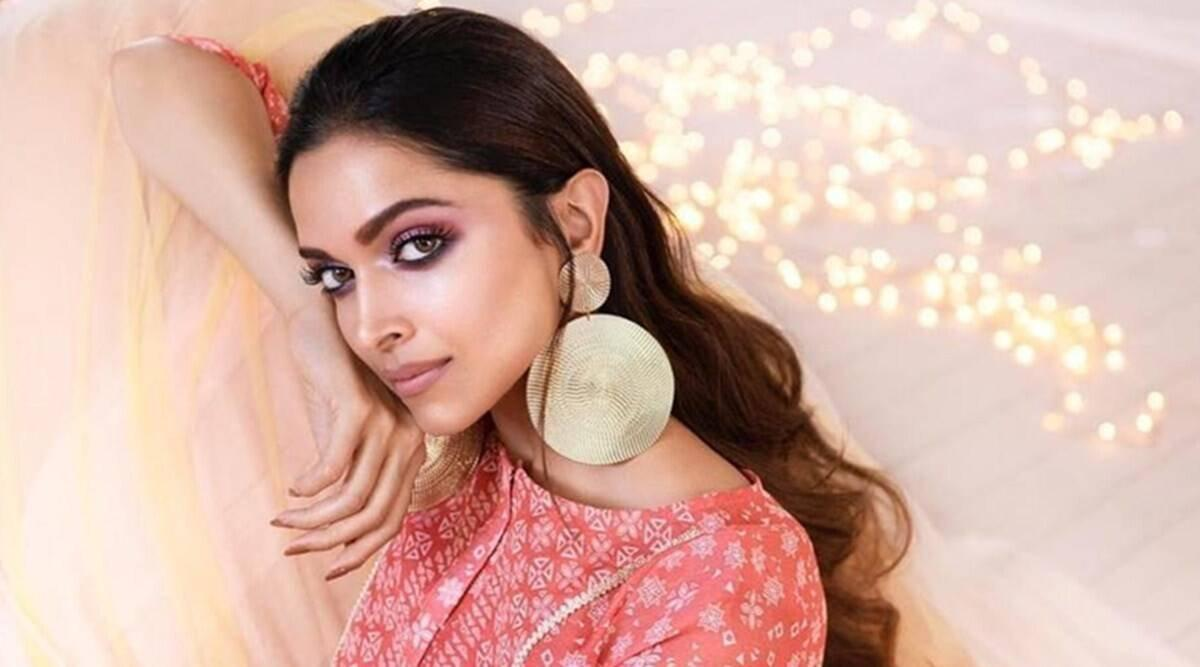Sober: (283, 157, 541, 405)
